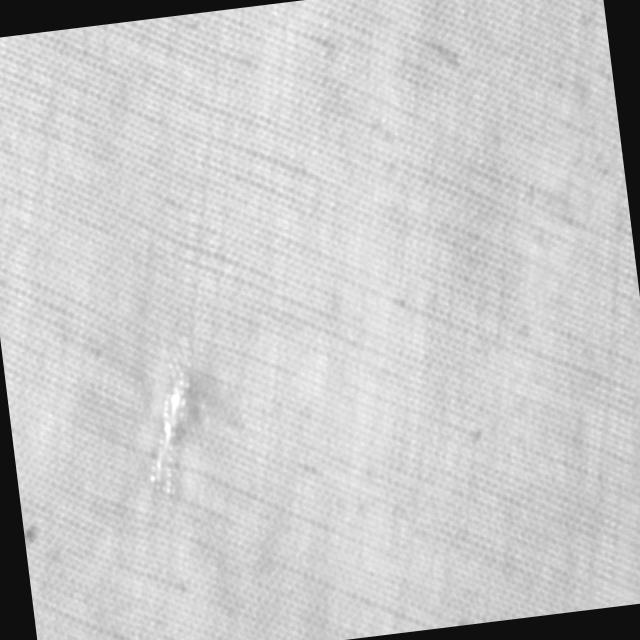hole: (126, 329, 217, 504)
